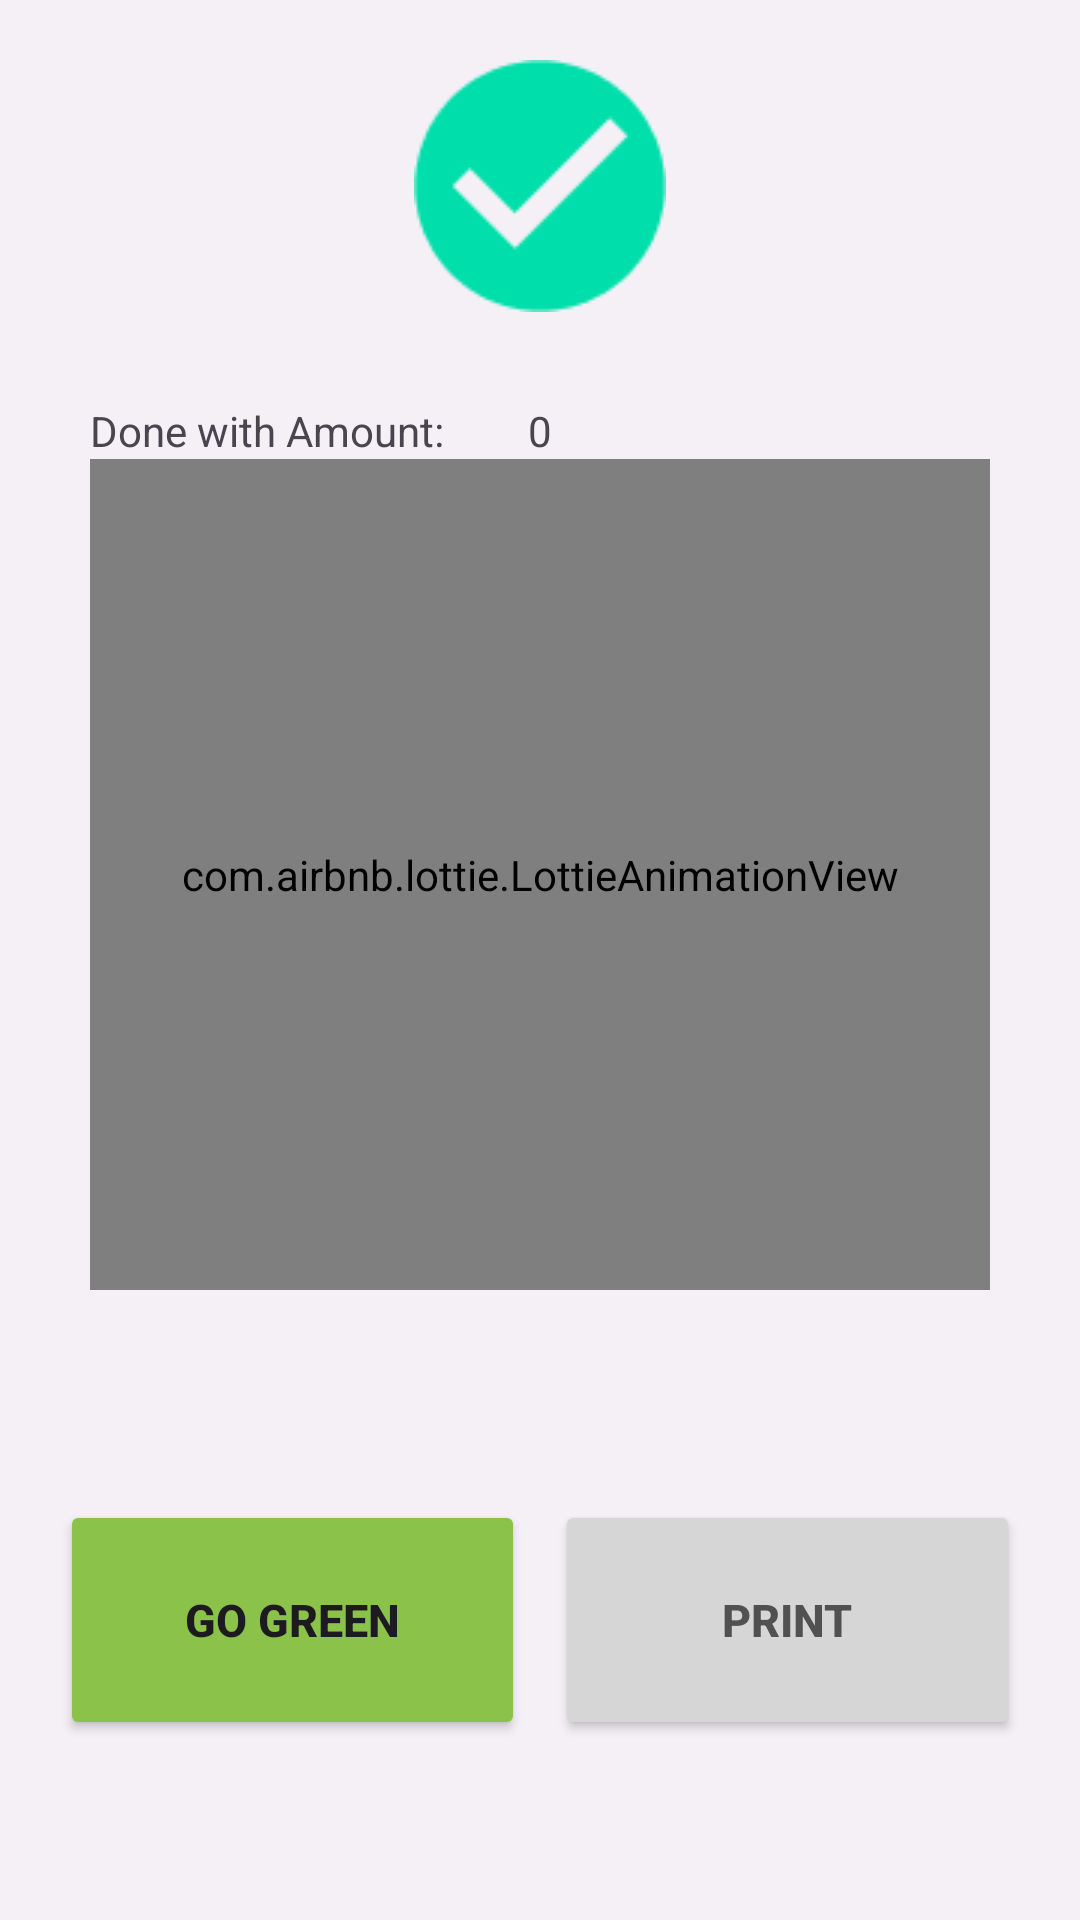

Named icons in this screenshot (1080 × 1920) and their centers, [x,y]:
success: [540,186]
